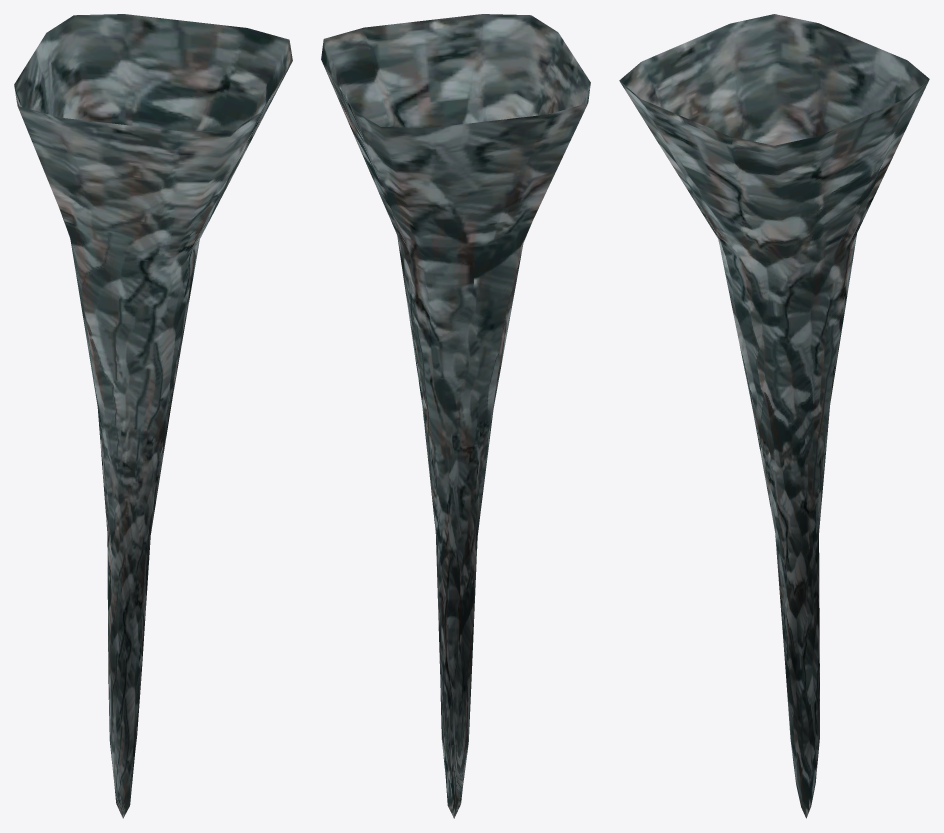
File: INST_SM_STALAGA.fbx
3 renders of one model, left to right at view 1: azimuth 30°, elevation 25°; view 2: azimuth 150°, elevation 25°; view 3: azimuth 270°, elevation 25°, orthographic. The views are drawn at different scales.
Parts seen in each view (by area): view 1: INST_SM_STALAGA; view 2: INST_SM_STALAGA; view 3: INST_SM_STALAGA.
Boxes of the visible parts, x1=… form: INST_SM_STALAGA: x1=14, y1=14, x2=292, y2=818; INST_SM_STALAGA: x1=321, y1=14, x2=590, y2=818; INST_SM_STALAGA: x1=619, y1=14, x2=929, y2=818.
Bounding box in the file's own units: 65322 × 173045 × 65273.
Materials: 1 (1 with a texture image).
